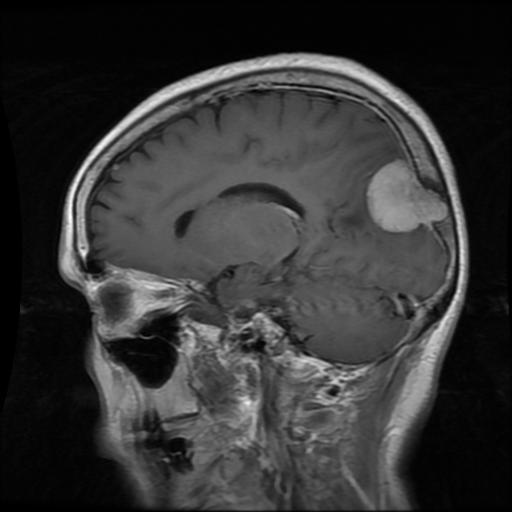Menigiomia_tumour: (367, 159, 446, 234)
